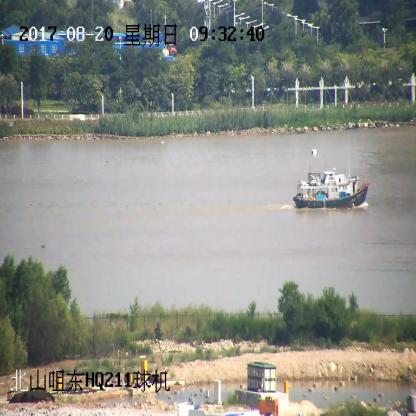Fishing Boat: (295, 168, 370, 208)
